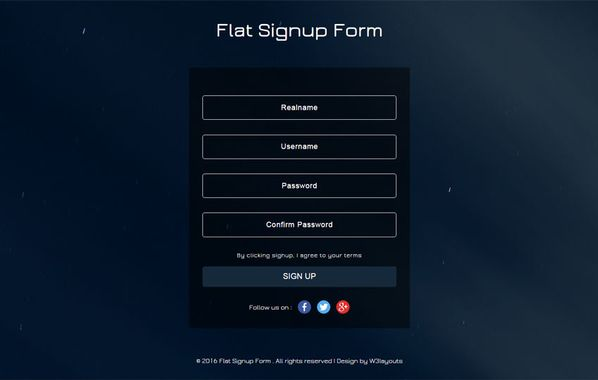button: (202, 265, 399, 290)
field: (200, 93, 398, 122), (200, 133, 398, 161), (200, 172, 401, 199), (200, 212, 400, 239)
